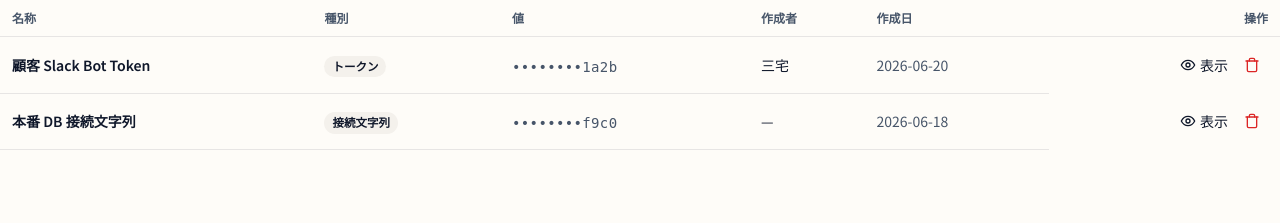
Test: S-B04 CredentialList (T-UC-41) › surfaces reveal failure as a visible alert (no silent swallow)
Click the button "表示" in the row of "顧客 Slack Bot Token". click: {"x": 1204, "y": 65}
box: [1172, 51, 1236, 79]
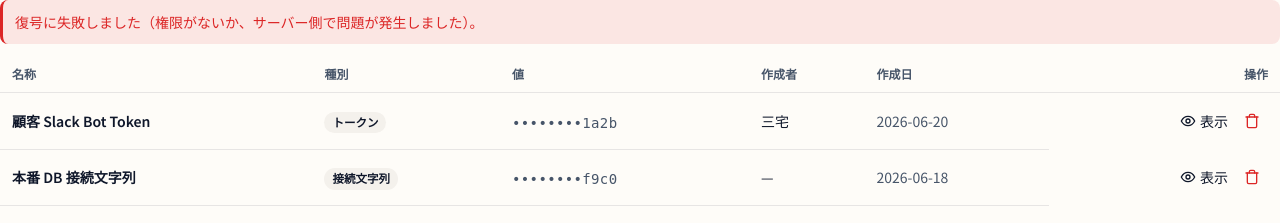
Result: the message shows "復号に失敗しました" at [15, 12, 484, 32]
